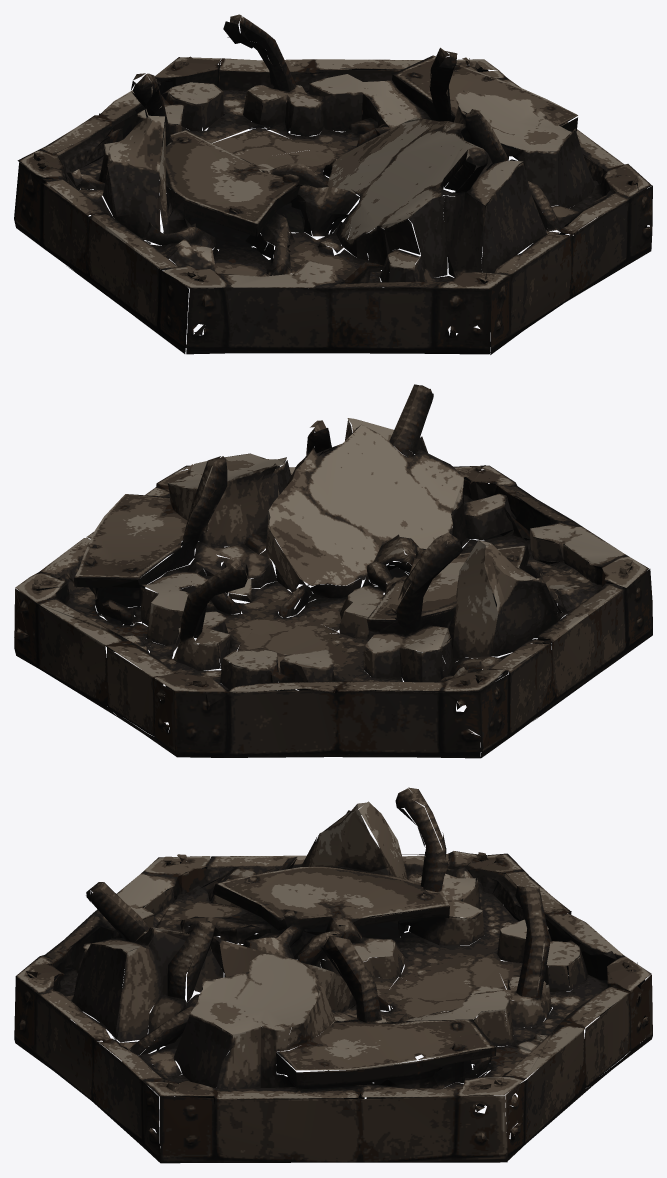
The model's file is tr_rubble.glb.
3 renders of one model, top to bottom at view 1: azimuth 30°, elevation 25°; view 2: azimuth 150°, elevation 25°; view 3: azimuth 270°, elevation 25°, orthographic.
Parts seen in each view (by area): view 1: tr_rubble; view 2: tr_rubble; view 3: tr_rubble.
Boxes of the visible parts, <box> form: tr_rubble: <box>14,14,652,354</box>; tr_rubble: <box>14,384,652,758</box>; tr_rubble: <box>14,787,652,1163</box>.
Bounding box in the file's own units: 1.31 × 0.4822 × 1.5.
1 material, 1 textured.
